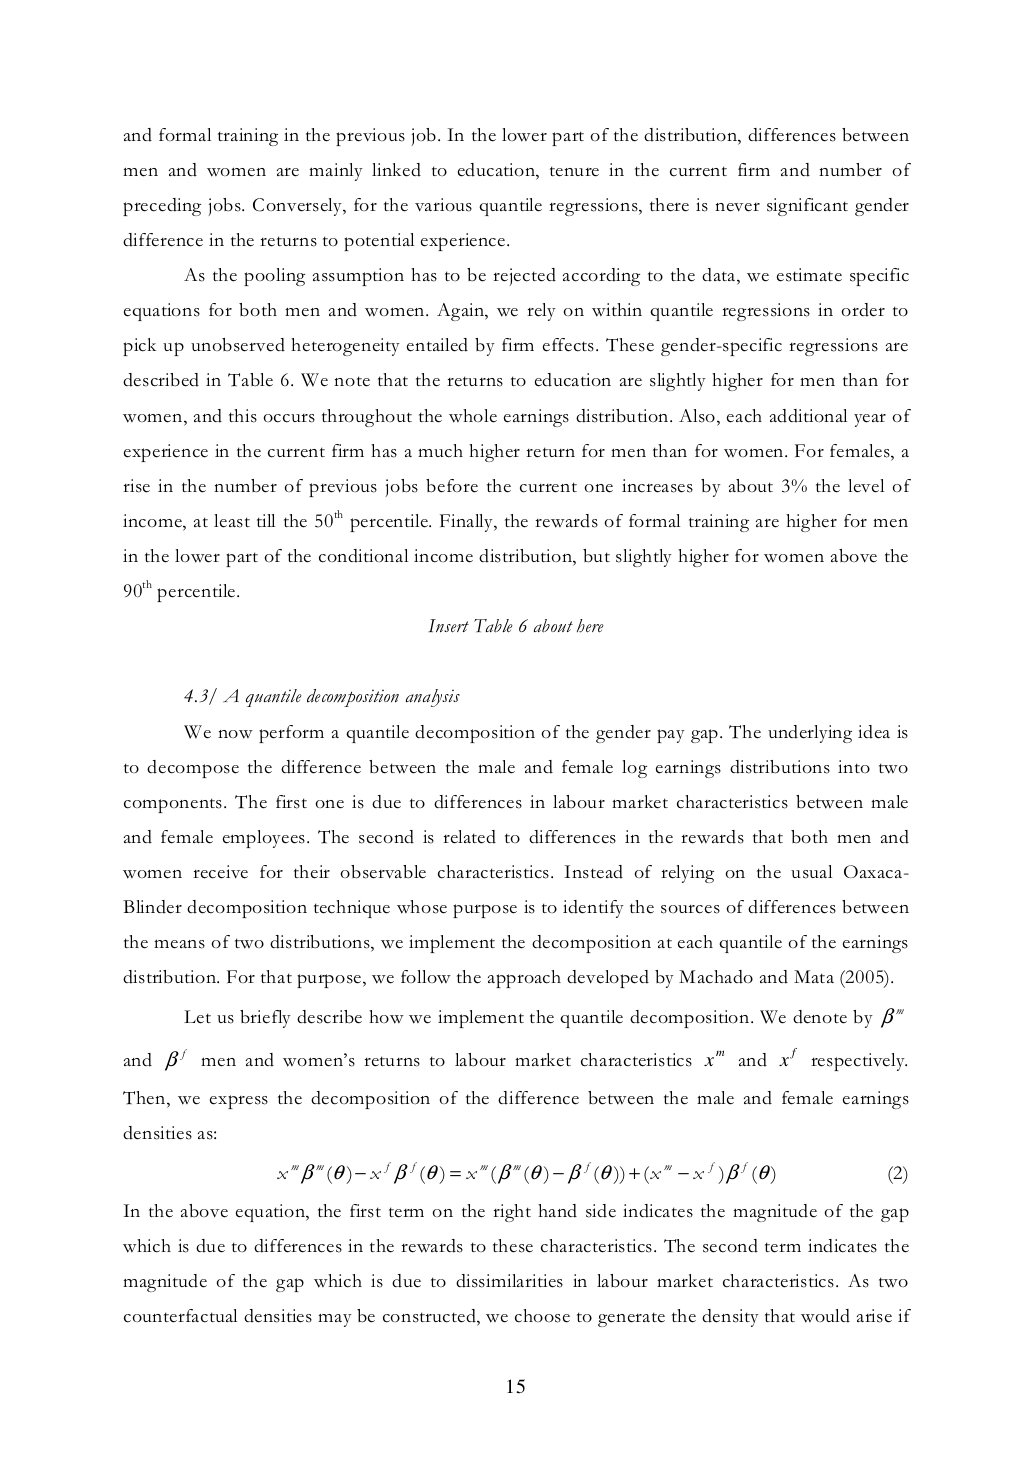formula: (277, 1161, 907, 1184)
